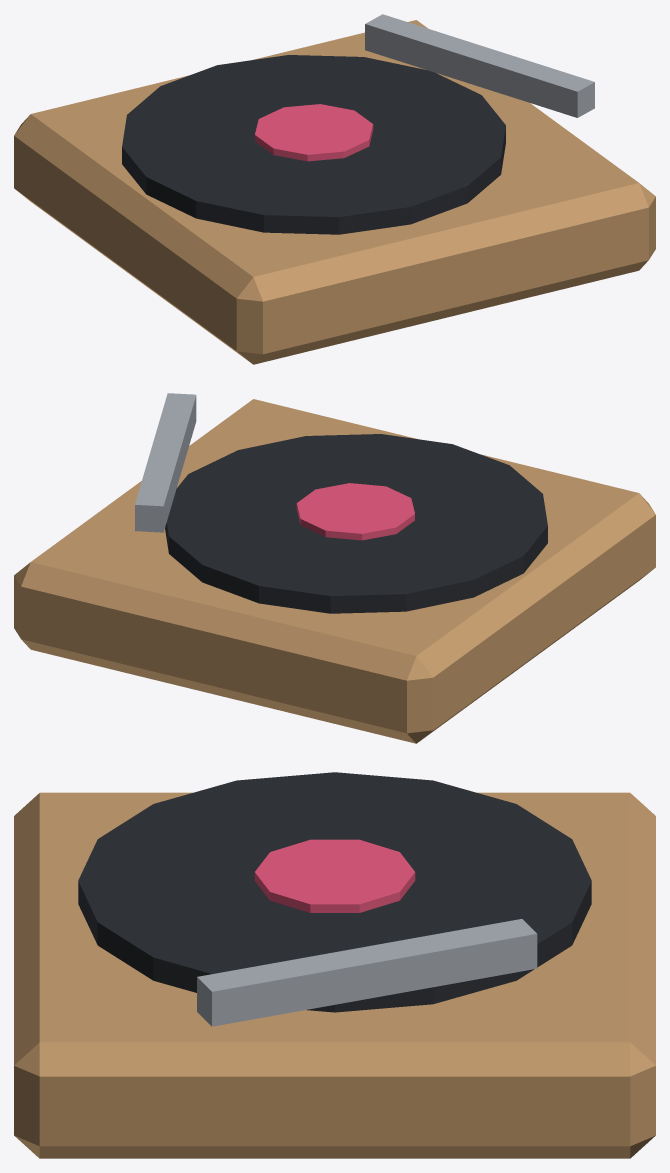
Rendered from prop_headphones_p2.glb.
The picture shows the model from 3 angles, top to bottom: view 1: azimuth 30°, elevation 25°; view 2: azimuth 150°, elevation 25°; view 3: azimuth 270°, elevation 25°; orthographic projection. The views are drawn at different scales.
Parts seen in each view (by area): view 1: prop_headphones_p2_mesh; view 2: prop_headphones_p2_mesh; view 3: prop_headphones_p2_mesh.
Part boxes in pixels (x1,y1,x2,y2): prop_headphones_p2_mesh: [14, 14, 655, 364]; prop_headphones_p2_mesh: [14, 393, 655, 743]; prop_headphones_p2_mesh: [14, 772, 655, 1158].
Bounding box in the file's own units: 0.2019 × 0.062 × 0.2.
